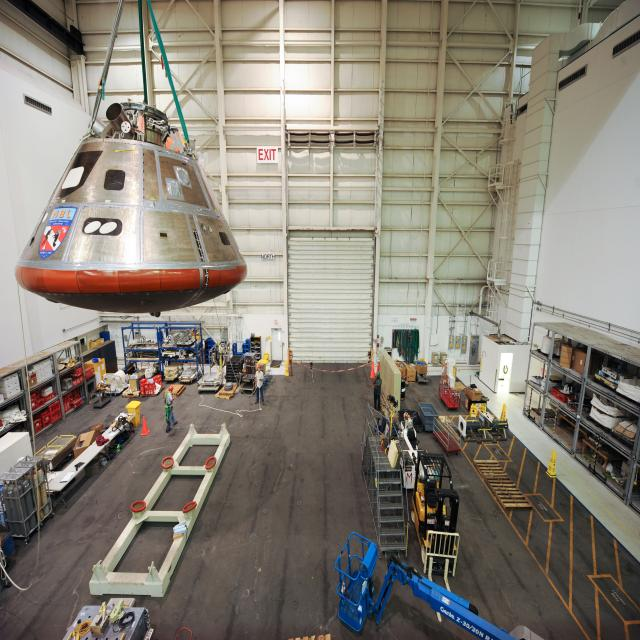Orion_capsule_mockup_ WEST _located_on_far_end_of_pool: (14, 103, 248, 314)
